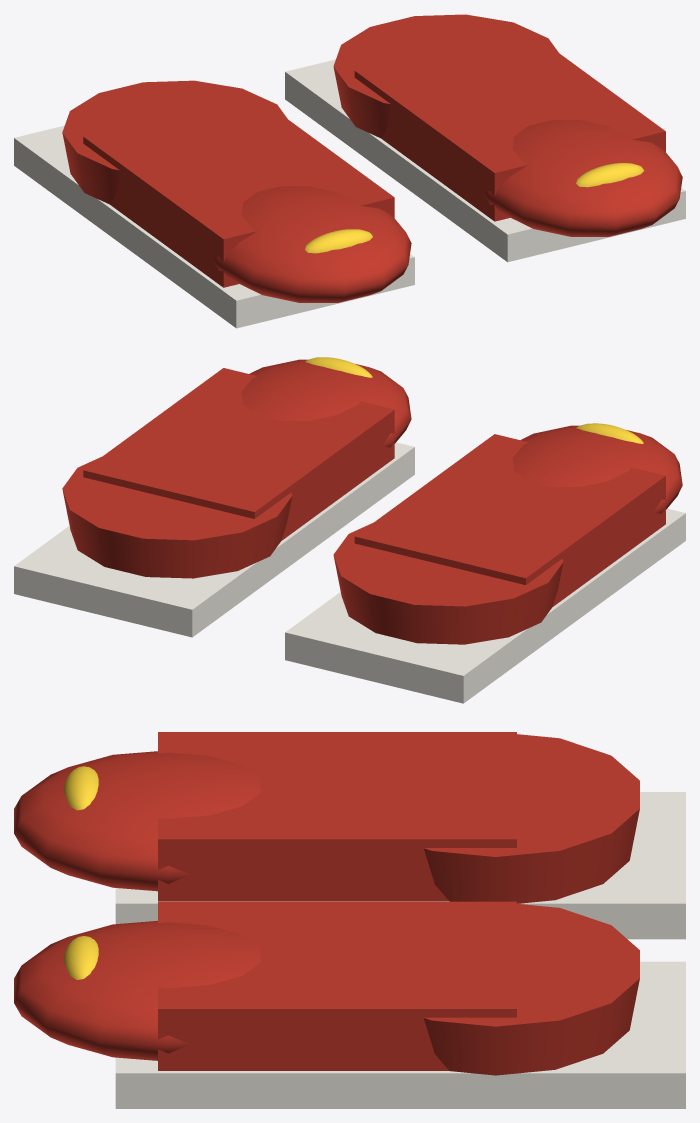
The model's file is shoes_ancient_2.glb.
The picture shows the model from 3 angles, top to bottom: view 1: azimuth 30°, elevation 25°; view 2: azimuth 150°, elevation 25°; view 3: azimuth 270°, elevation 25°; orthographic projection. The views are drawn at different scales.
Bounding box in the file's own units: 0.3696 × 0.0624 × 0.3563.
